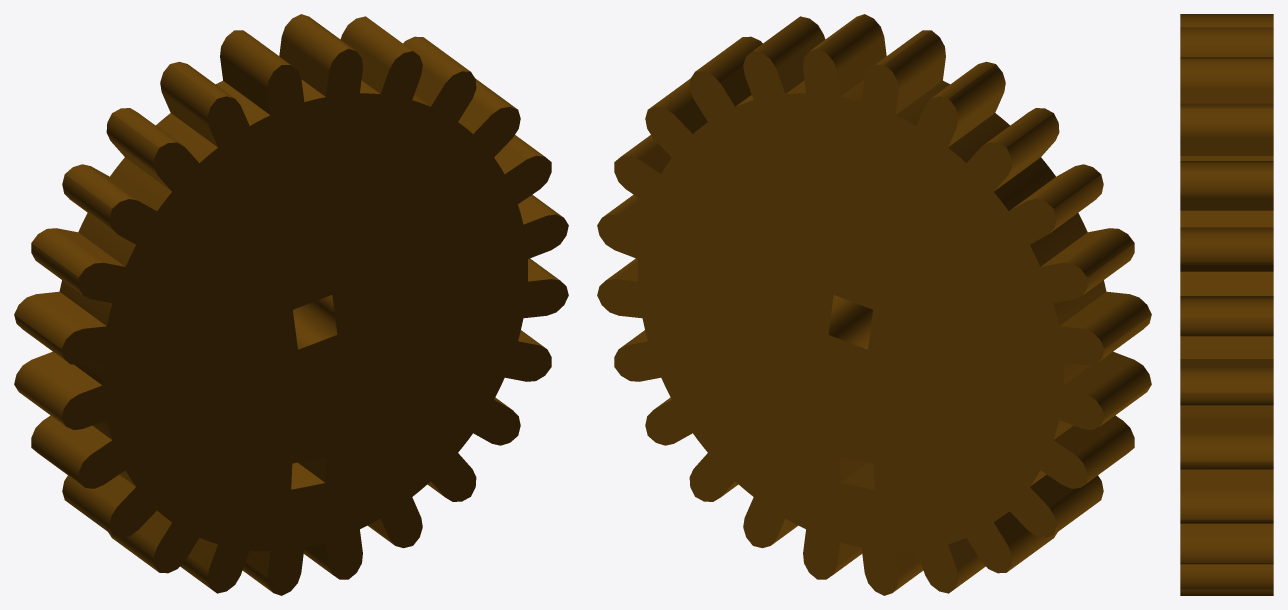
The model's file is Copie de Petite roue Ass 06^Copie de Assemblage 06_Horloge Comtoise Verge - Sonnerie.obj.
3 views of the same model, side by side, from view 1: azimuth 30°, elevation 25°; view 2: azimuth 150°, elevation 25°; view 3: azimuth 270°, elevation 25° (orthographic).
Parts seen in each view (by area): view 1: Face_1, Face_46, Face_37, Face_27, Face_36, Face_56, Face_47, Face_3, Face_17, Face_26, Face_12, Face_66 (+17 smaller); view 2: Face_8, Face_46, Face_37, Face_27, Face_36, Face_56, Face_47, Face_3, Face_17, Face_26, Face_12, Face_66 (+17 smaller); view 3: Face_39, Face_49, Face_107, Face_117, Face_59, Face_97, Face_29, Face_87, Face_127, Face_73, Face_69, Face_83 (+25 smaller).
Part boxes in pixels (bbox=[...]): Face_1: bbox=[61, 48, 568, 595]; Face_46: bbox=[14, 360, 78, 418]; Face_37: bbox=[281, 14, 348, 71]; Face_27: bbox=[220, 30, 281, 90]; Face_36: bbox=[14, 294, 82, 348]; Face_56: bbox=[31, 420, 89, 481]; Face_47: bbox=[342, 16, 412, 68]; Face_3: bbox=[293, 295, 337, 349]; Face_17: bbox=[160, 64, 216, 126]; Face_26: bbox=[31, 228, 102, 277]; Face_12: bbox=[110, 157, 171, 210]; Face_66: bbox=[62, 475, 116, 534]; Face_8: bbox=[597, 48, 1104, 595]; Face_46: bbox=[1087, 360, 1151, 418]; Face_37: bbox=[817, 14, 884, 71]; Face_27: bbox=[884, 30, 945, 90]; Face_36: bbox=[1083, 294, 1151, 348]; Face_56: bbox=[1076, 420, 1134, 481]; Face_47: bbox=[753, 16, 823, 68]; Face_3: bbox=[828, 295, 872, 349]; Face_17: bbox=[949, 64, 1005, 126]; Face_26: bbox=[1063, 228, 1134, 277]; Face_12: bbox=[994, 157, 1055, 210]; Face_66: bbox=[1049, 475, 1103, 534]; Face_39: bbox=[1180, 59, 1273, 88]; Face_49: bbox=[1180, 108, 1273, 137]; Face_107: bbox=[1180, 490, 1273, 519]; Face_117: bbox=[1180, 534, 1273, 563]; Face_59: bbox=[1180, 170, 1273, 198]; Face_97: bbox=[1180, 433, 1273, 461]; Face_29: bbox=[1180, 27, 1273, 54]; Face_87: bbox=[1180, 367, 1273, 392]; Face_127: bbox=[1180, 564, 1273, 589]; Face_73: bbox=[1180, 271, 1273, 295]; Face_69: bbox=[1180, 242, 1273, 265]; Face_83: bbox=[1180, 336, 1273, 358].
Bounding box in the file's own units: 0.0266 × 0.0266 × 0.0043.
